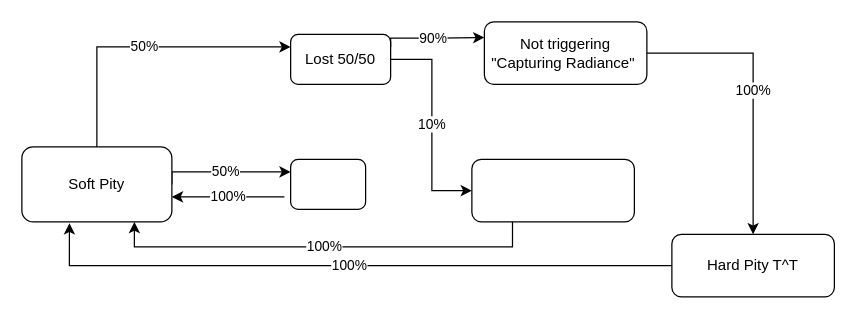
Some shapes in this 856 by 319 pixel diagram are drawn without their labels. The centre of each missing label's shape, as x and y in pixels:
Triggered "Capturing Radiance": [552,190]
Win 50/50: [327,183]
